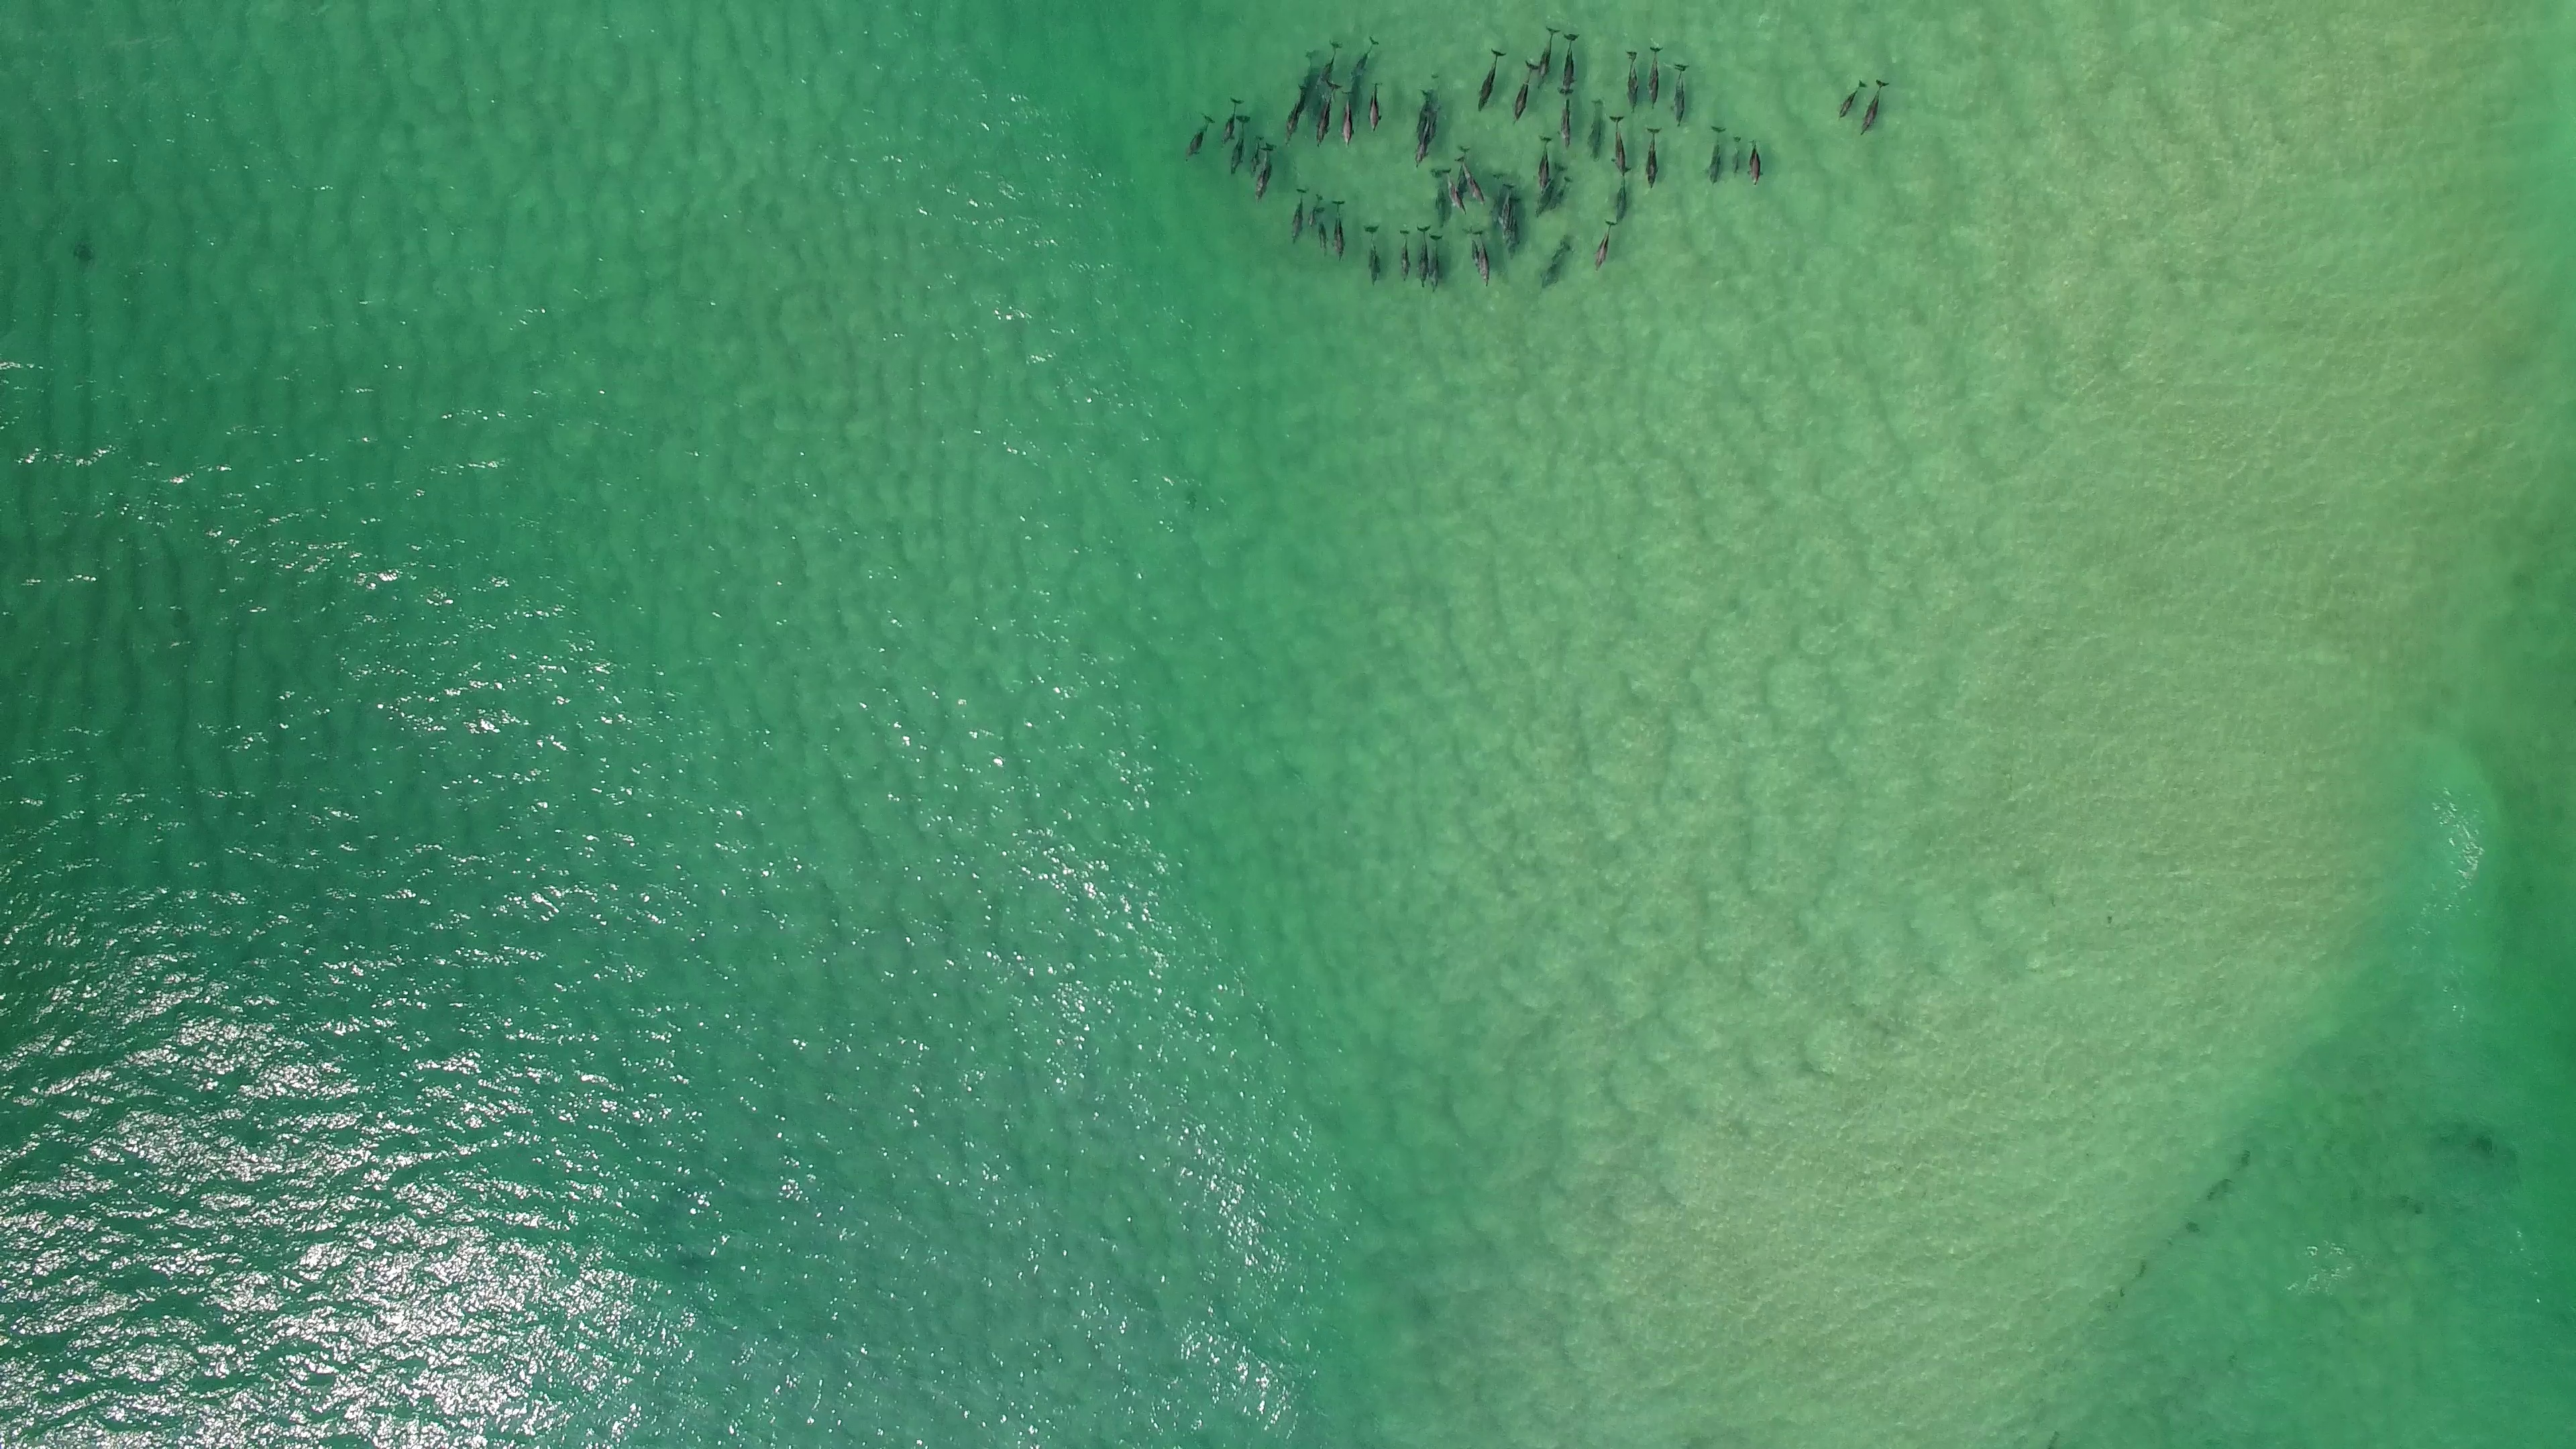dolphin: (1474, 44, 1506, 111), (1858, 78, 1891, 142), (1177, 111, 1215, 165), (1315, 80, 1343, 147), (1223, 113, 1253, 175), (1541, 235, 1573, 292), (1412, 108, 1440, 168), (1513, 58, 1541, 119), (1453, 157, 1488, 203), (1414, 85, 1440, 145), (1215, 97, 1246, 149), (1606, 115, 1631, 177), (1838, 74, 1870, 122), (1284, 85, 1309, 145), (1249, 145, 1276, 200), (1440, 168, 1468, 219), (1560, 30, 1582, 97), (1361, 225, 1384, 287), (1592, 218, 1619, 271), (1315, 39, 1343, 88), (1537, 23, 1559, 88), (1502, 196, 1525, 255), (1644, 126, 1663, 193), (1350, 37, 1378, 83), (1430, 168, 1451, 228), (1621, 50, 1640, 115), (1453, 143, 1472, 207), (1557, 87, 1576, 150), (1614, 165, 1635, 221), (1645, 44, 1663, 111), (1330, 200, 1348, 265), (1707, 124, 1725, 189), (1476, 230, 1493, 292), (1536, 136, 1553, 196), (1339, 87, 1355, 150), (1414, 225, 1430, 288), (1589, 97, 1605, 161), (1499, 182, 1518, 234), (1290, 186, 1307, 241), (1368, 80, 1384, 136), (1246, 131, 1265, 175), (1428, 234, 1442, 294), (1674, 67, 1688, 127), (1398, 226, 1412, 285), (1463, 228, 1481, 274), (1315, 207, 1330, 257), (1746, 138, 1762, 188), (1674, 62, 1688, 117), (1729, 133, 1743, 182), (1306, 193, 1325, 226)
